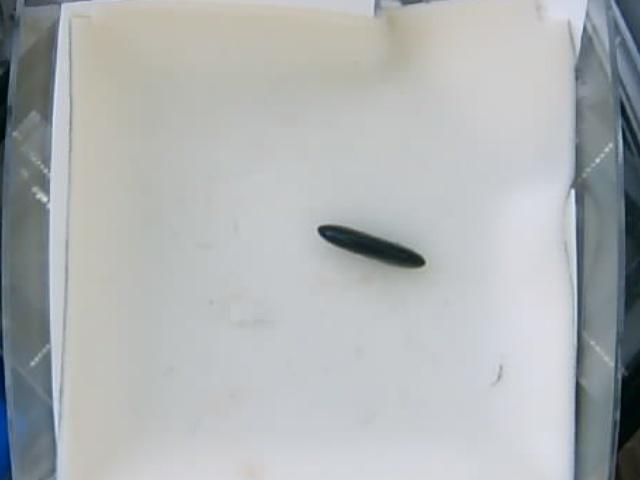Pebble: (314, 224, 429, 270)
